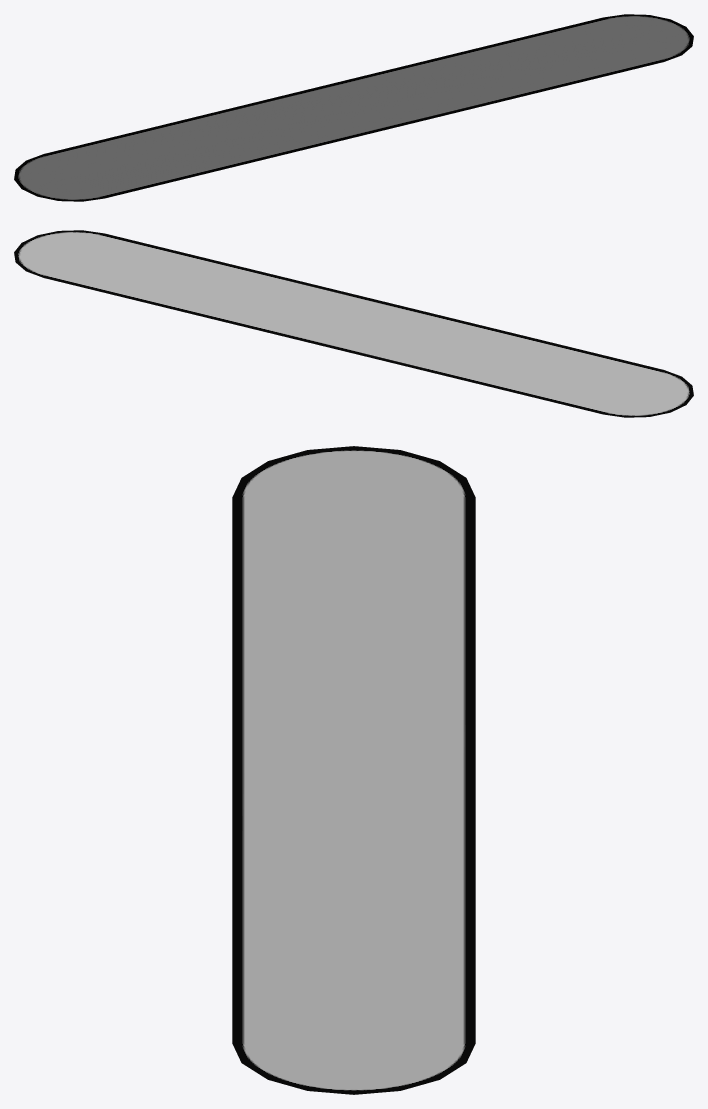
The picture shows the model from 3 angles, top to bottom: view 1: azimuth 30°, elevation 25°; view 2: azimuth 150°, elevation 25°; view 3: azimuth 270°, elevation 25°; orthographic projection. The views are drawn at different scales.
Visible parts, largest first — view 1: Joint_0_Object_0; view 2: Joint_0_Object_0; view 3: Joint_0_Object_0.
Boxes of the visible parts, left/top/right/bottom form: Joint_0_Object_0: left=14, top=14, right=693, bottom=201; Joint_0_Object_0: left=14, top=230, right=693, bottom=417; Joint_0_Object_0: left=232, top=446, right=475, bottom=1094.
Bounding box in the file's own units: 737 × 0 × 117.
1 material, 1 textured.
